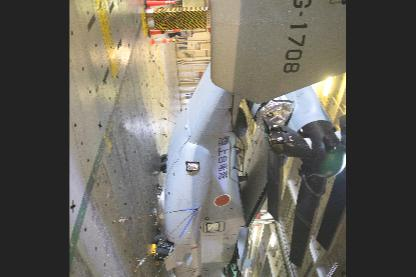Tornado: (151, 0, 347, 275), (187, 256, 269, 275)
